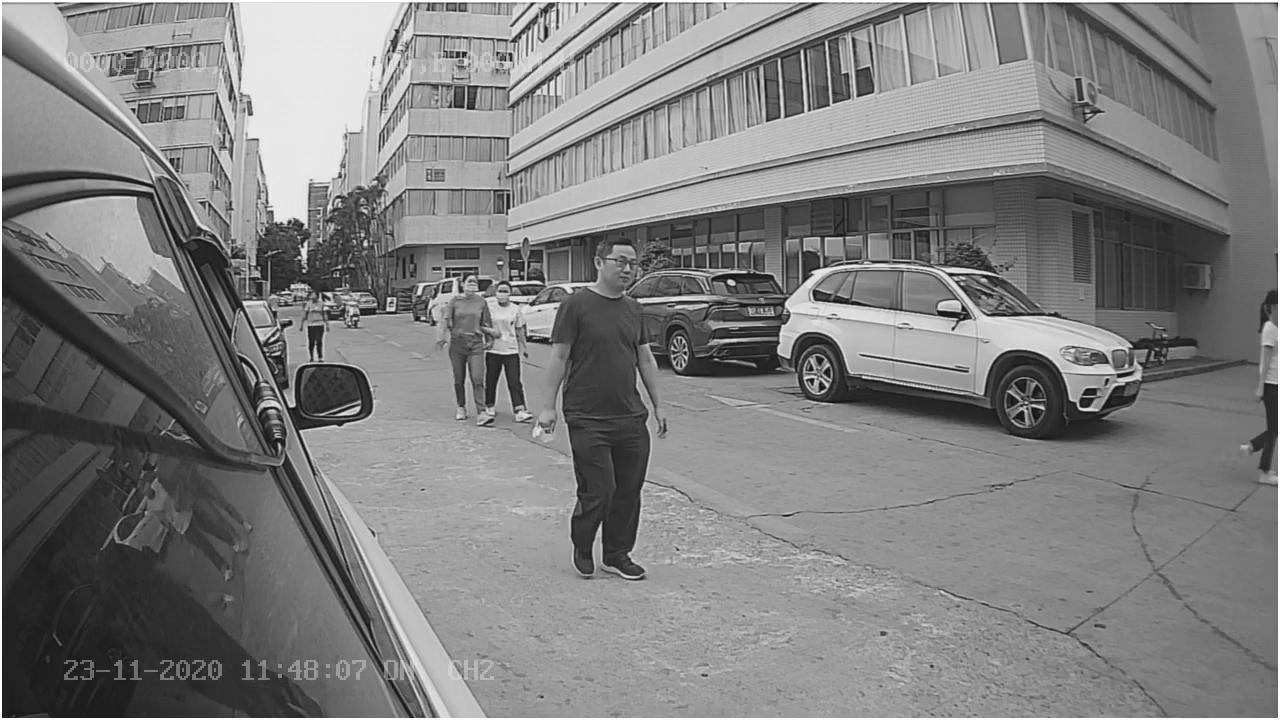person: (532, 228, 677, 582), (435, 265, 498, 427)
